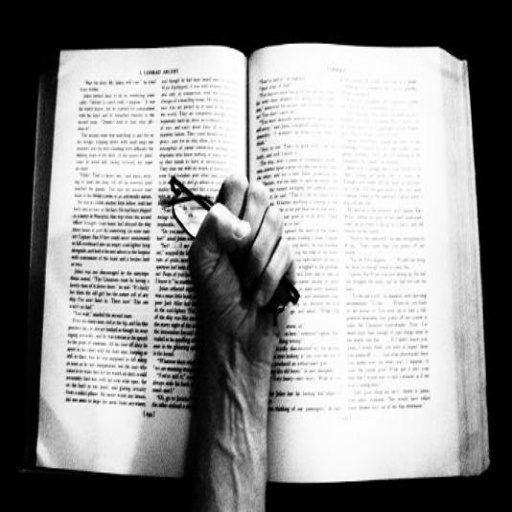hand: (183, 167, 297, 360)
